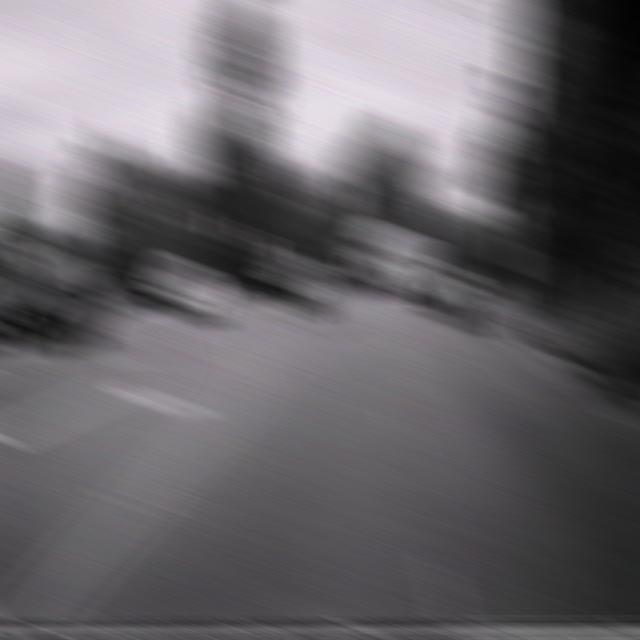pedestrianCrossing: (496, 181, 530, 216)
